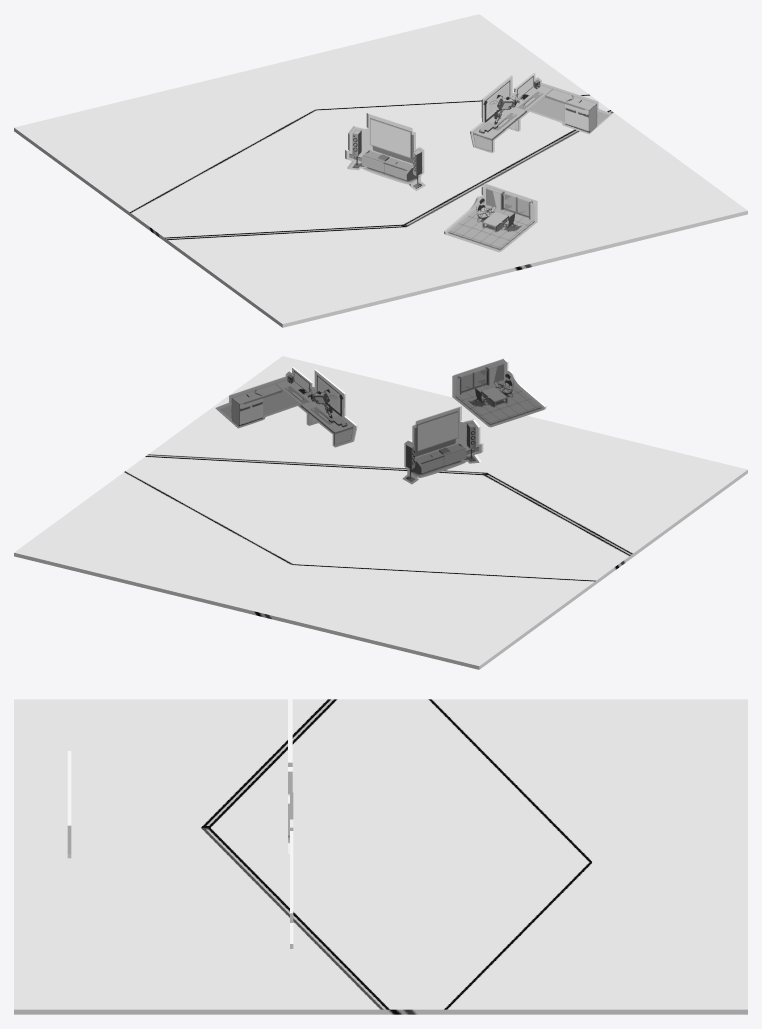
3 views of the same model, one above another, from view 1: azimuth 30°, elevation 25°; view 2: azimuth 150°, elevation 25°; view 3: azimuth 270°, elevation 25° (orthographic). The views are drawn at different scales.
Parts seen in each view (by area): view 1: 平面, Curve.003, Curve.004, Curve.002; view 2: 平面, Curve.003, Curve.004, Curve.002; view 3: 平面, Curve.003, Curve.004, Curve.002.
Part boxes in pixels (bbox=[...]): 平面: bbox=[14, 14, 747, 327]; Curve.003: bbox=[470, 73, 611, 153]; Curve.004: bbox=[345, 113, 425, 190]; Curve.002: bbox=[444, 183, 537, 252]; 平面: bbox=[14, 356, 747, 669]; Curve.003: bbox=[215, 367, 357, 447]; Curve.004: bbox=[402, 406, 483, 484]; Curve.002: bbox=[452, 358, 546, 427]; 平面: bbox=[14, 699, 747, 1014]; Curve.003: bbox=[290, 792, 293, 948]; Curve.004: bbox=[288, 698, 292, 853]; Curve.002: bbox=[67, 751, 71, 858].
Bounding box in the file's own units: 0.4495 × 0.0931 × 0.4495.
Materials: 12 (12 with a texture image).
